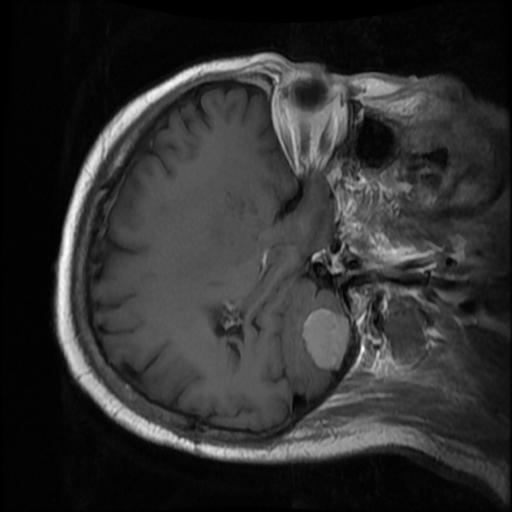meningioma: (303, 308, 350, 369)
